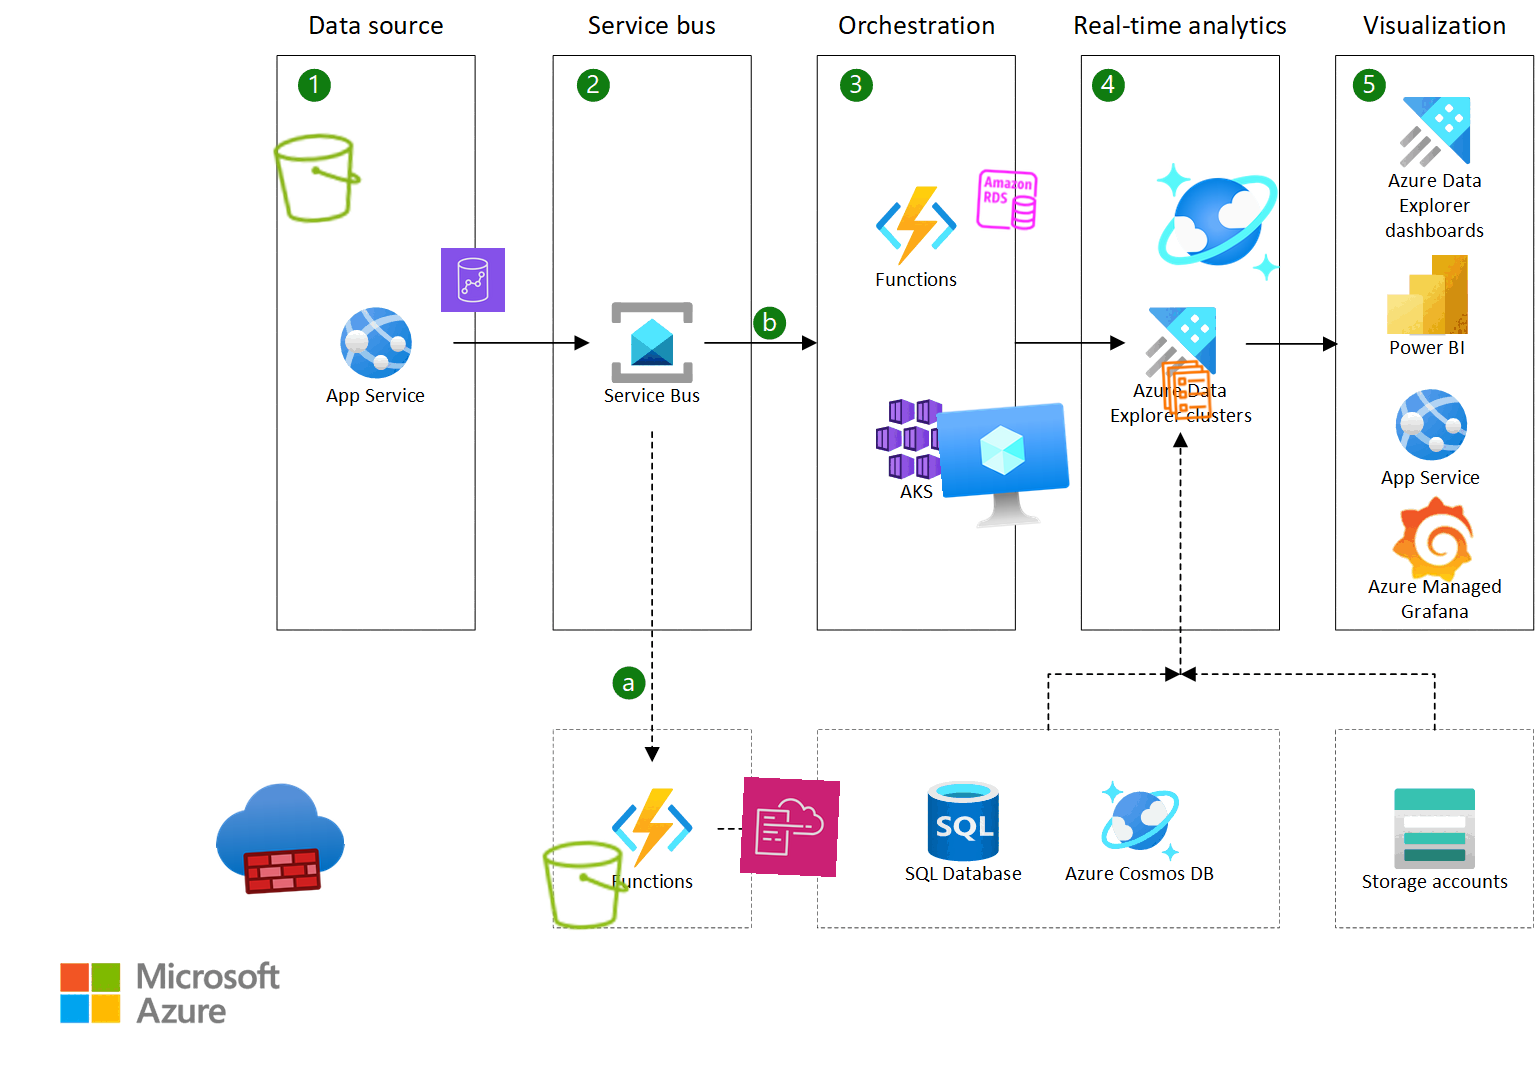aws_amazon_redshift: (441, 247, 506, 313)
aws_aurora_amazon_rds_instance: (973, 166, 1041, 234)
aws_cloudformation: (739, 776, 841, 878)
aws_elastic_container_service_service: (1153, 356, 1221, 424)
aws_simple_storage_service_bucket: (535, 835, 636, 935)
aws_simple_storage_service_s3_standard: (266, 127, 370, 230)
azure_cosmos_db: (1152, 156, 1284, 288)
azure_firewalls: (212, 770, 348, 906)
azure_virtual_machine: (936, 401, 1074, 539)
